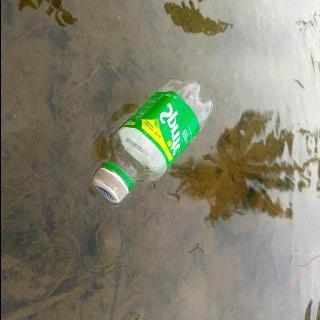bottle: (88, 76, 214, 205)
